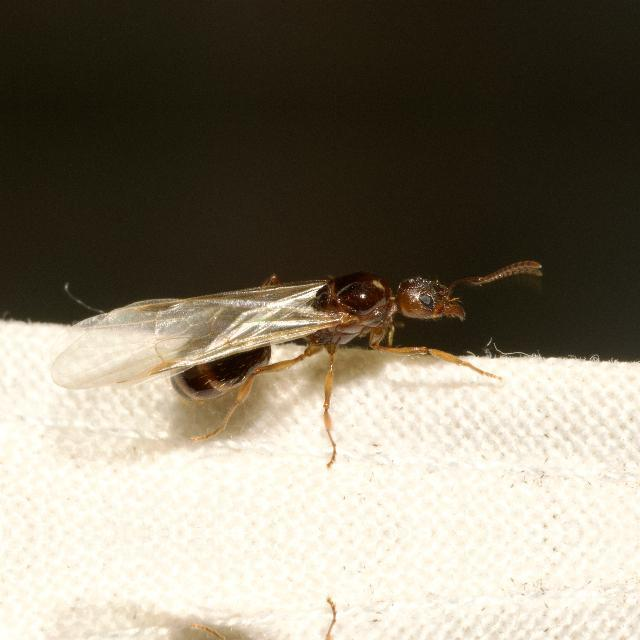Apheanogaster: (102, 237, 518, 431)
